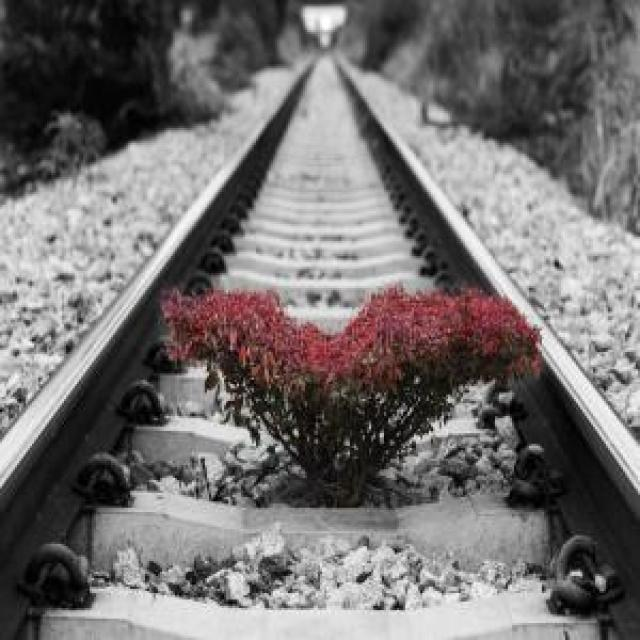danger: (147, 268, 553, 513)
rail: (0, 49, 640, 640)
